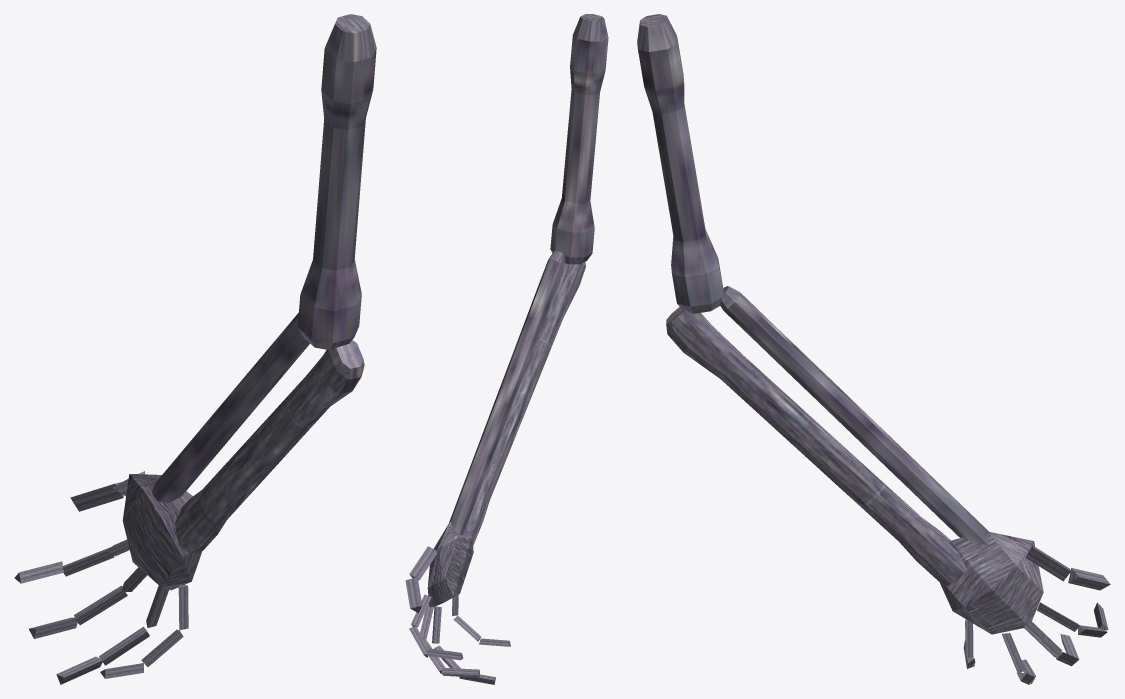
File: MainHand.fbx
3 renders of one model, left to right at view 1: azimuth 30°, elevation 25°; view 2: azimuth 150°, elevation 25°; view 3: azimuth 270°, elevation 25°, orthographic. The views are drawn at different scales.
Visible parts, largest first — view 1: body; view 2: body; view 3: body.
Part boxes in pixels (x1,y1,x2,y2): body: [14, 14, 376, 684]; body: [405, 14, 608, 684]; body: [637, 14, 1110, 684].
Bounding box in the file's own units: 760 × 5296 × 3344.
